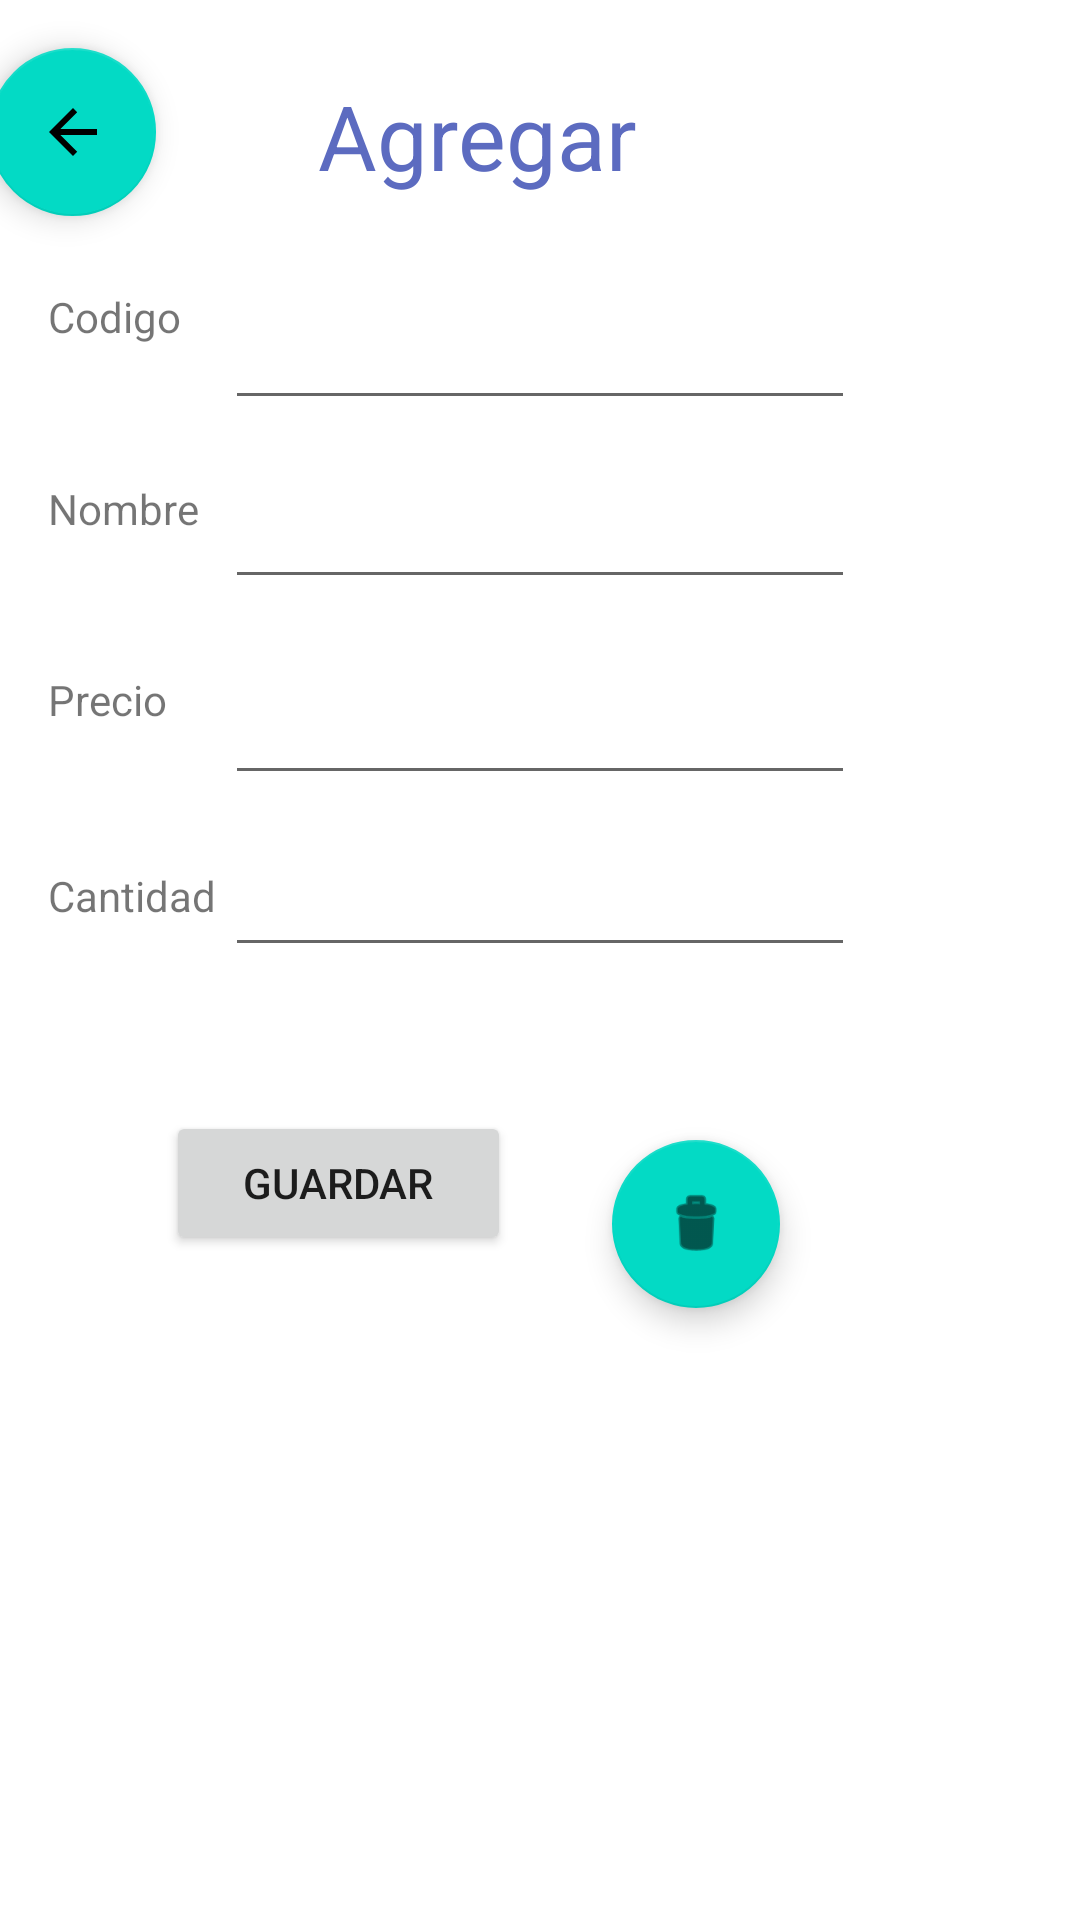

Locate icon controls on the screen. Image size 1080 x 1920, boxes as (x1=x1, y1=y1, x2=x2, y2=y2).
delete: (x1=612, y1=1140, x2=780, y2=1308)
